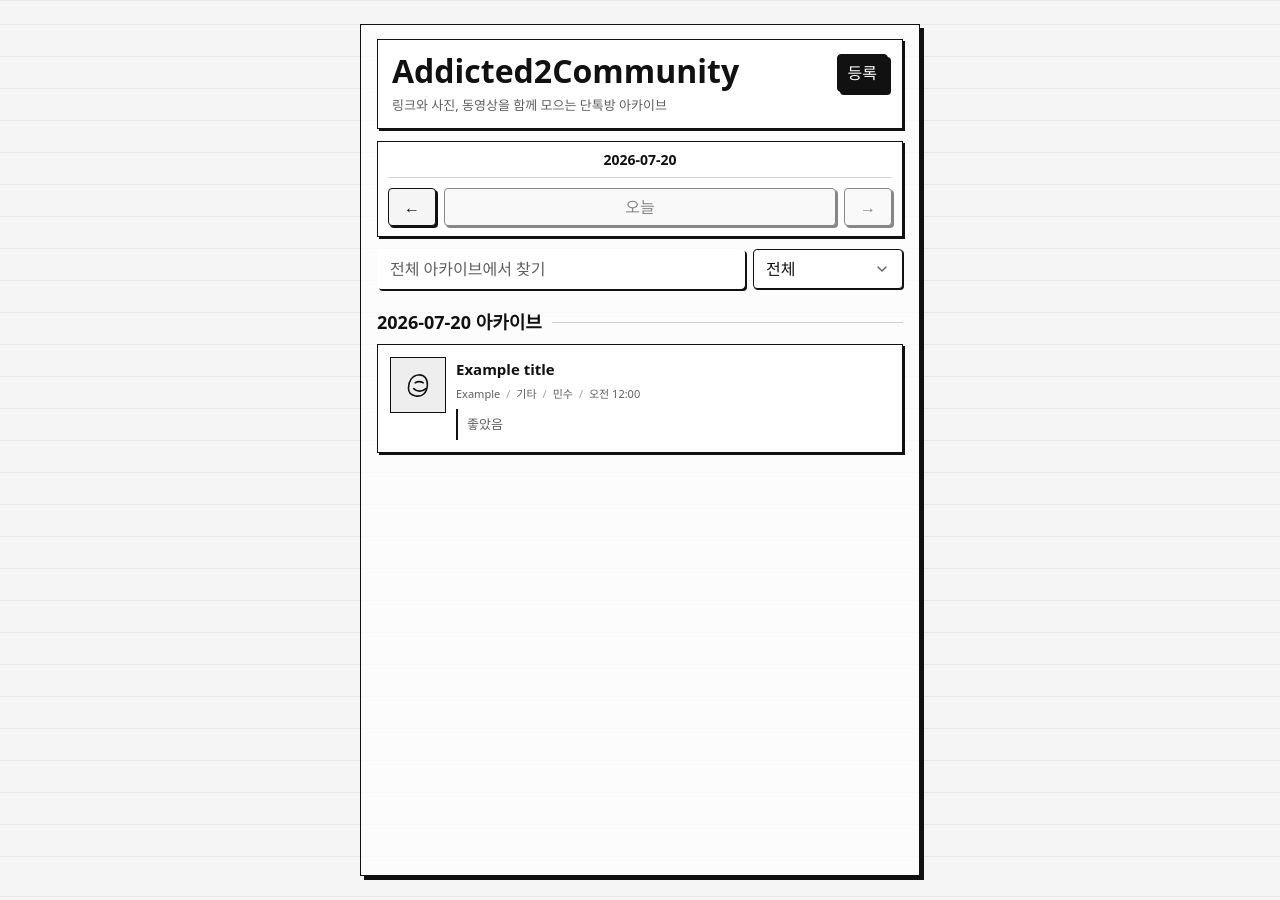
Test case: ArchiveApp › requests metadata again after a failed result
Click the button "등록". click: (862, 73)
box: left=836, top=54, right=888, bottom=92
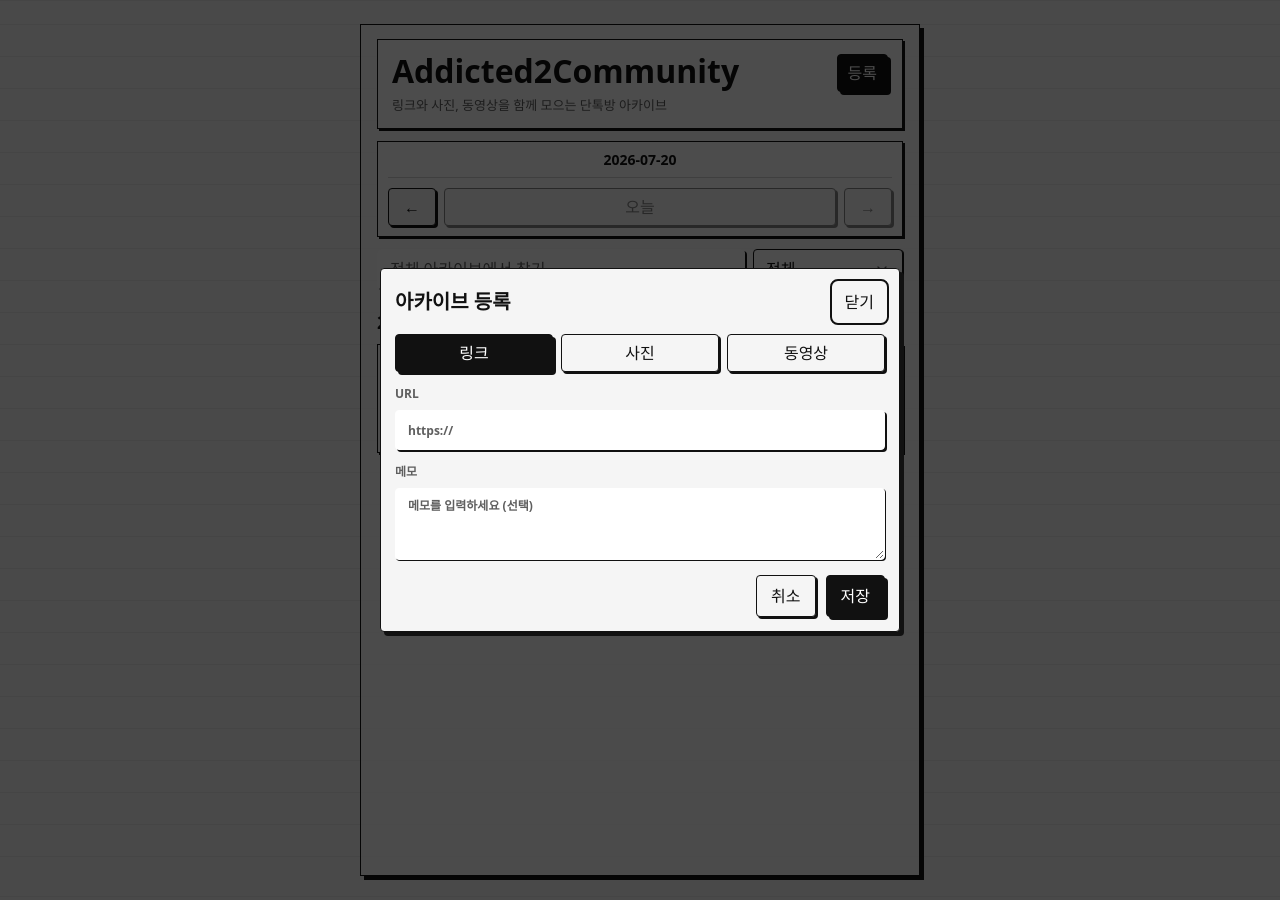
Type "https://example.com/retry" into the field labelled "URL". click: (640, 430)
box: left=395, top=410, right=885, bottom=450
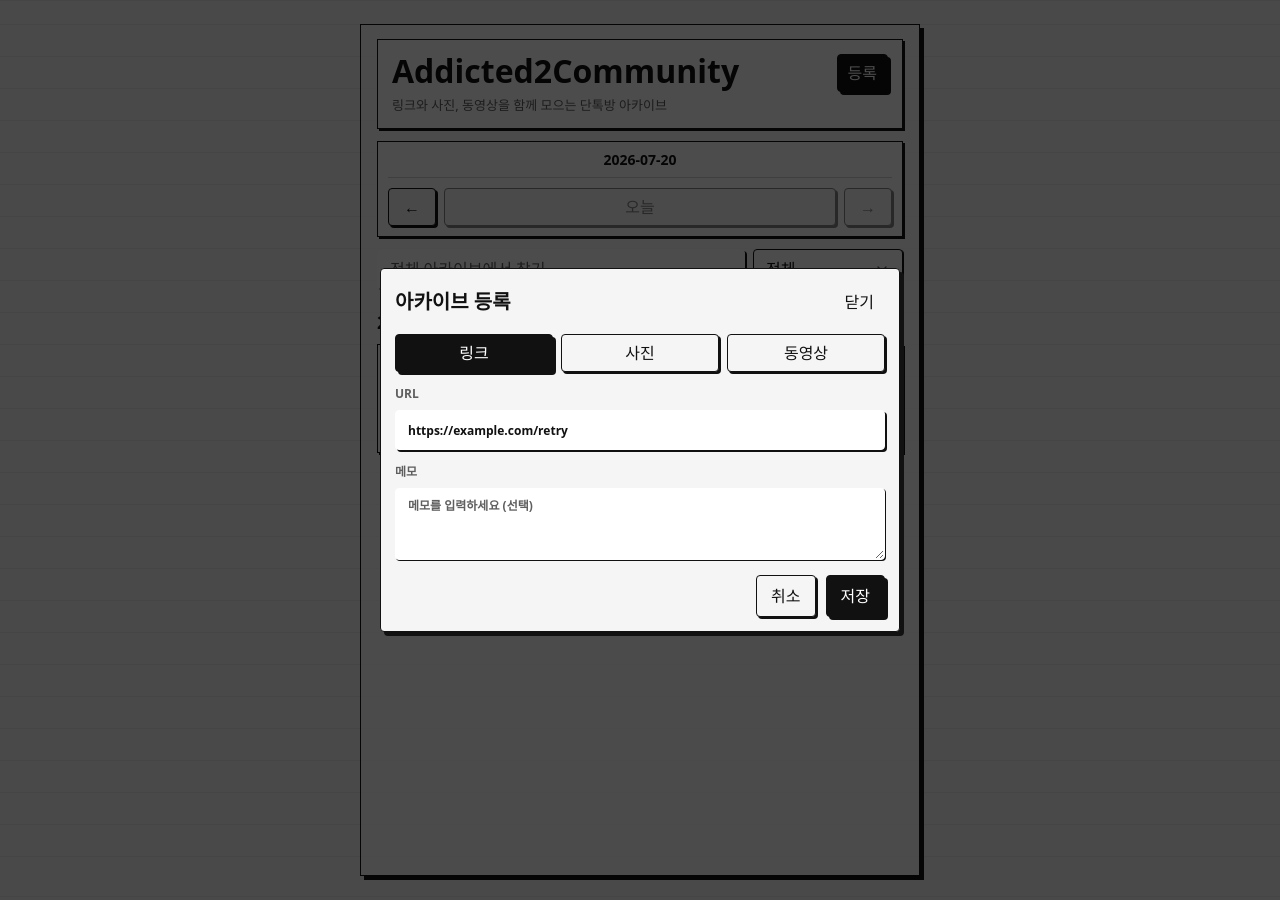
Press Tab
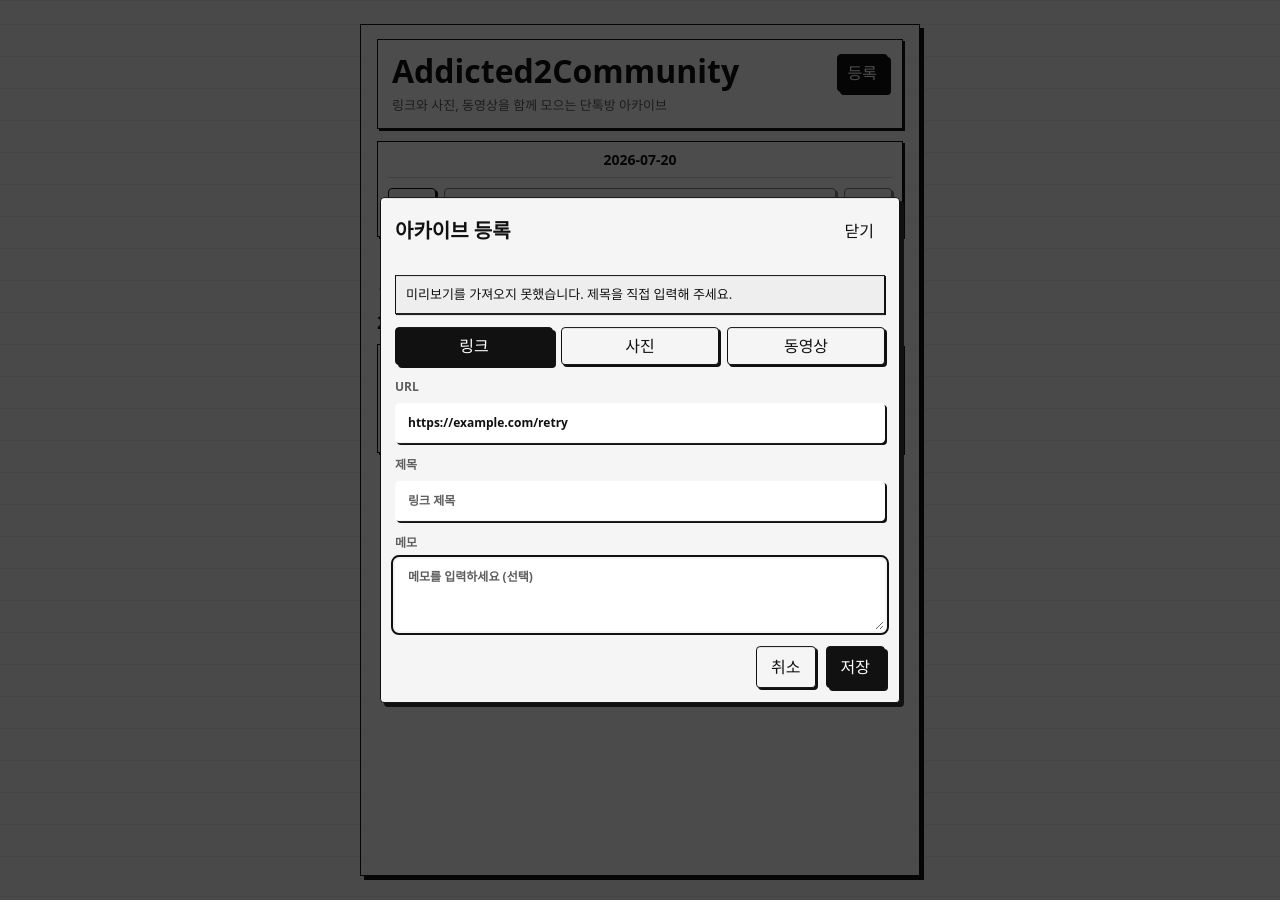
Expected: the field labelled "제목" is shown, left=395, top=481, right=885, bottom=521
Click the field labelled "URL". click: (640, 423)
box: left=395, top=403, right=885, bottom=443
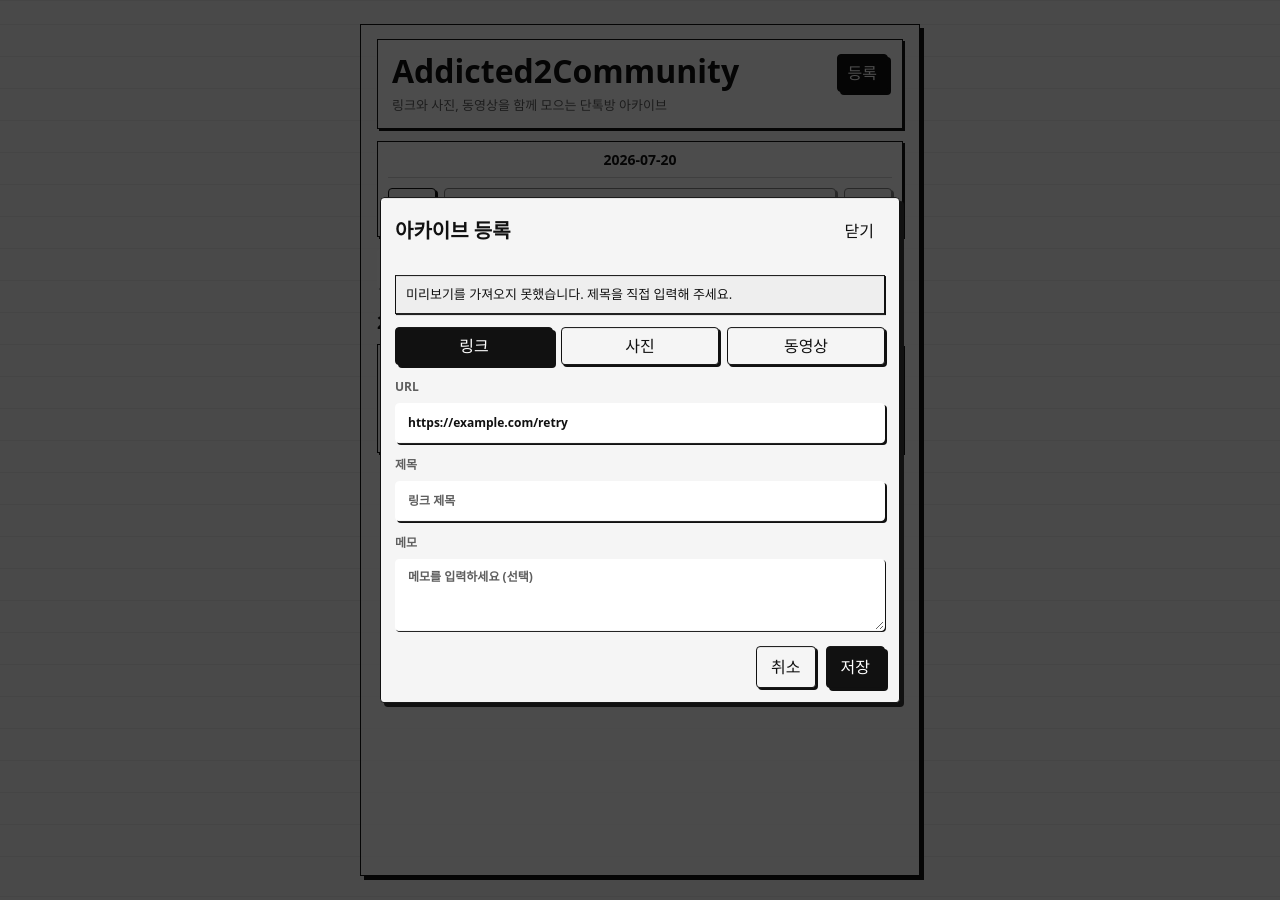
Press Tab
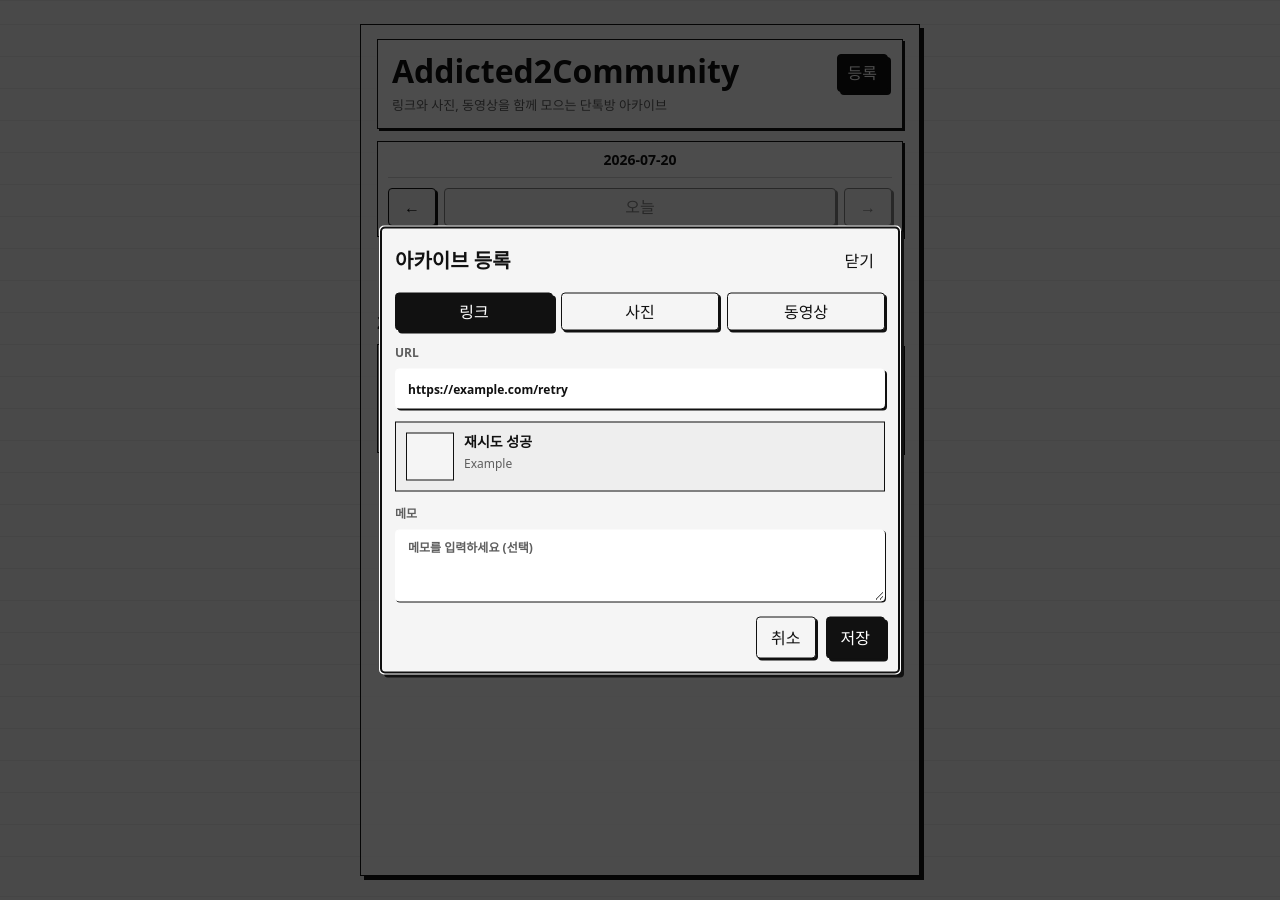
Expected: the element named "링크 미리보기" is shown, left=395, top=422, right=885, bottom=492
